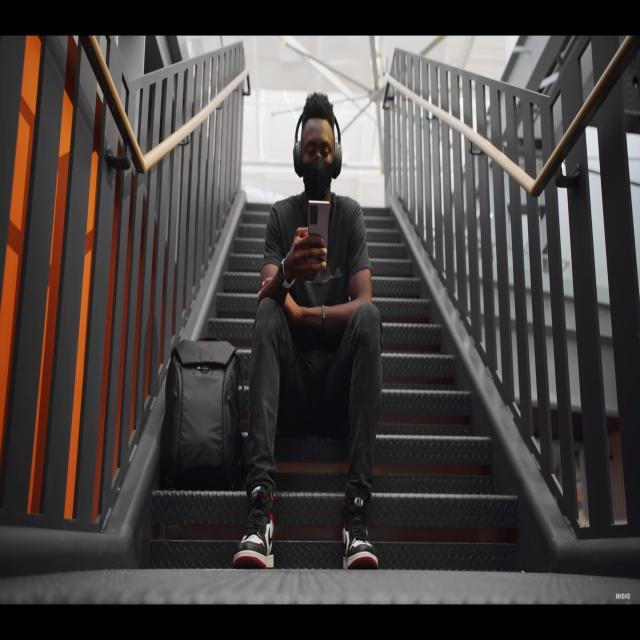Headphone: (293, 112, 342, 180)
